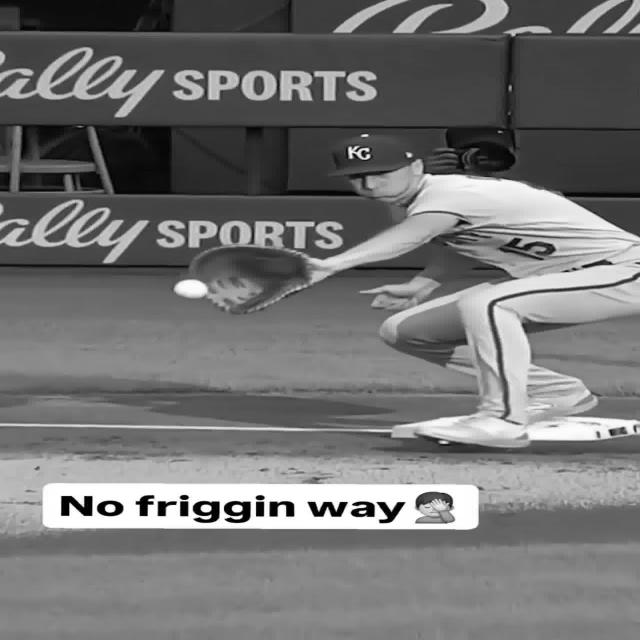base: (527, 416, 640, 441), (391, 416, 467, 439)
baseball: (173, 279, 209, 299)
baseball_glove: (189, 245, 311, 314)
shoe: (416, 412, 531, 448), (527, 390, 598, 422)
